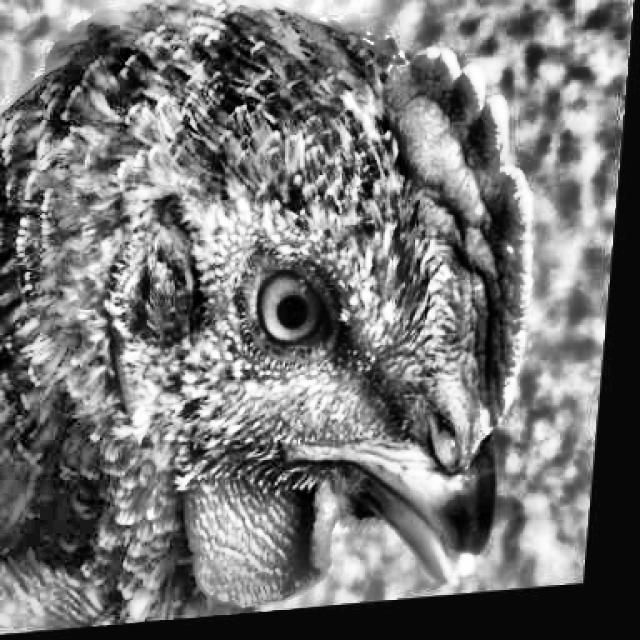Healthy: (228, 257, 357, 373)
